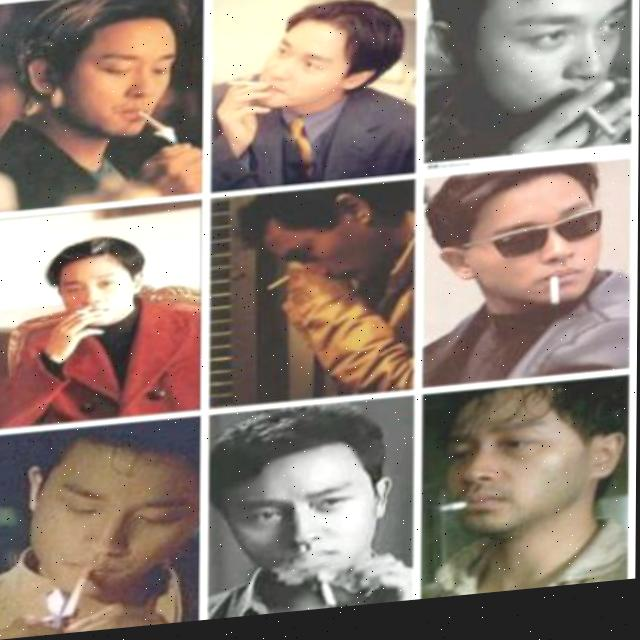cigarette: (65, 566, 96, 621), (310, 575, 351, 614), (585, 115, 621, 158), (227, 76, 274, 98), (138, 110, 171, 137), (265, 279, 295, 296), (549, 287, 565, 318), (437, 510, 469, 521)
